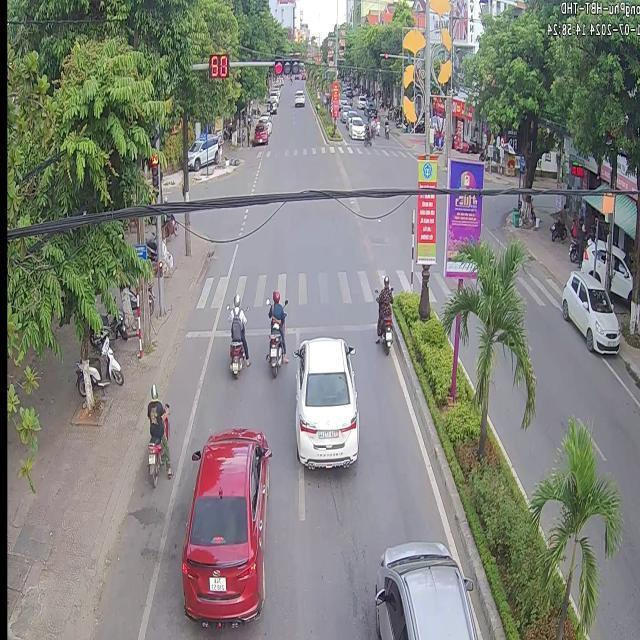car: (179, 427, 269, 622), (373, 540, 476, 638), (292, 336, 357, 467), (559, 269, 618, 351)
motobike: (266, 289, 287, 376), (228, 309, 248, 376), (376, 282, 392, 351), (146, 436, 162, 485)
red_light: (270, 57, 301, 75), (208, 53, 230, 76), (151, 152, 157, 194)
stop_line: (284, 321, 374, 332), (244, 322, 268, 340)
